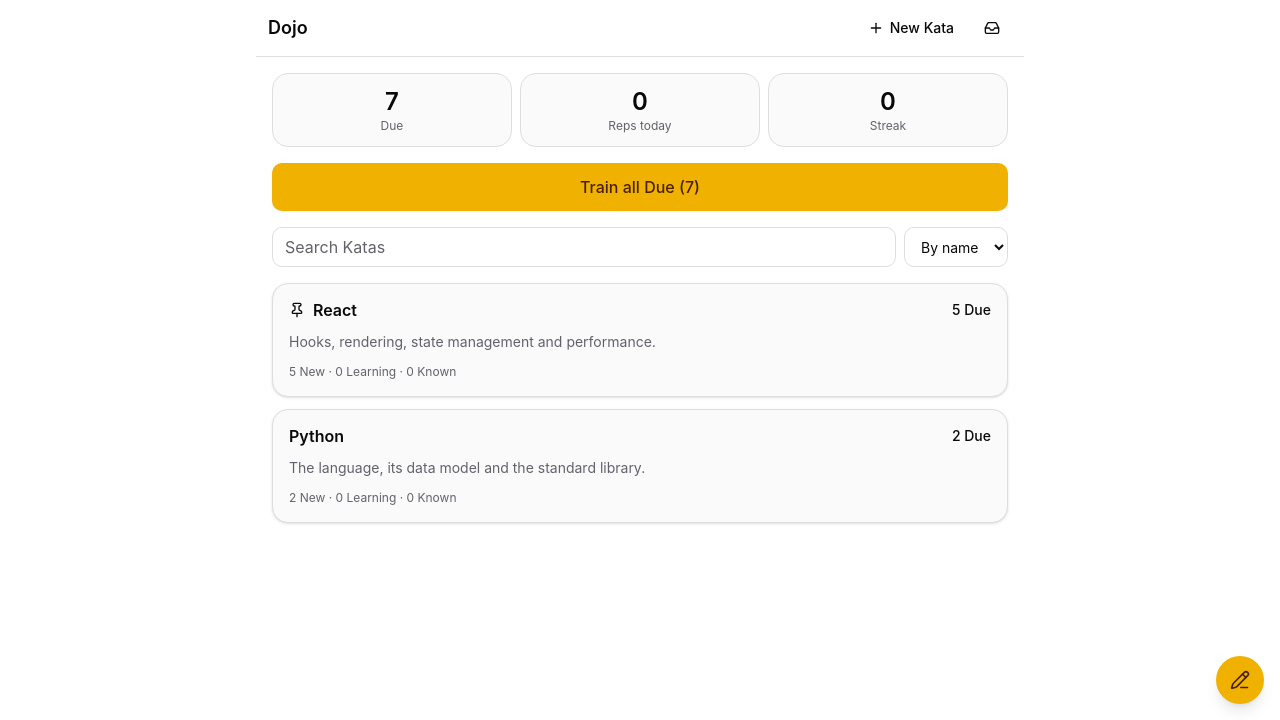
Scenario: Inbox › captures a quick note from Home and posts it with a device id
Check: the list named "Katas" is shown, box [272, 283, 1008, 523]
Click the button named "Quick note": [1240, 680] box [1216, 656, 1264, 704]
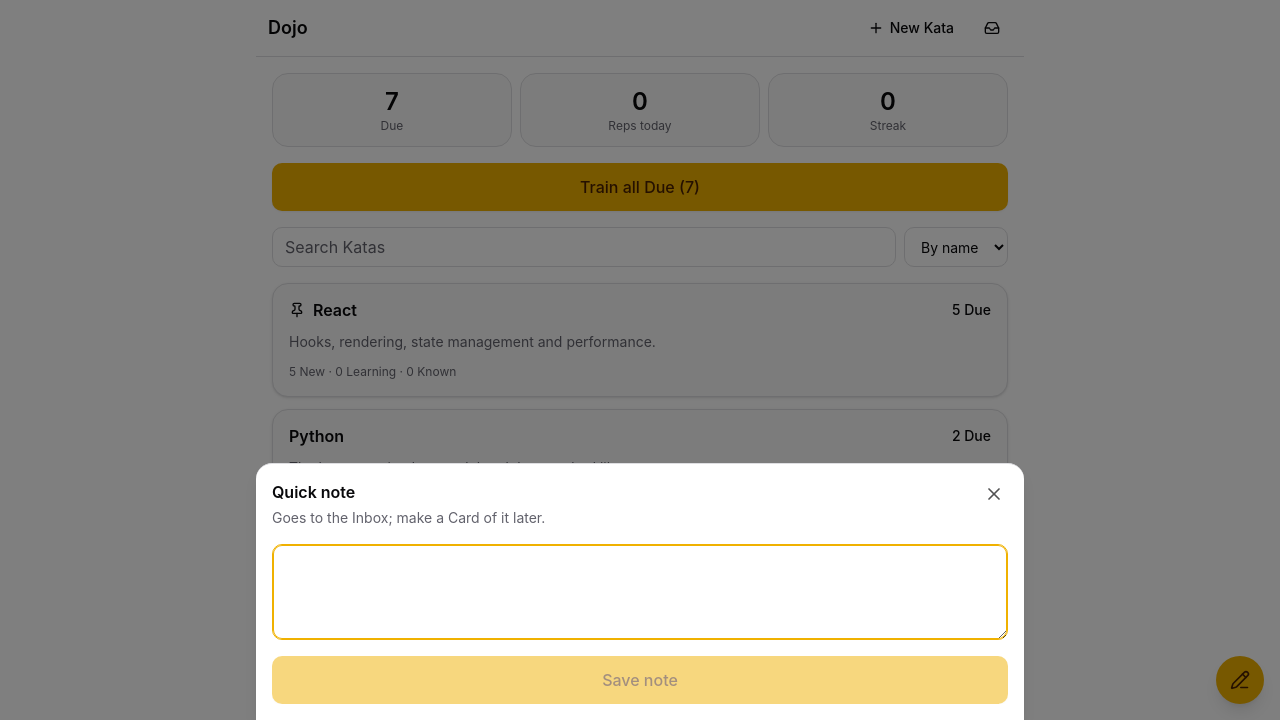
In the text box named "Note": [640, 592] box [272, 544, 1008, 640], type "ask about Suspense"
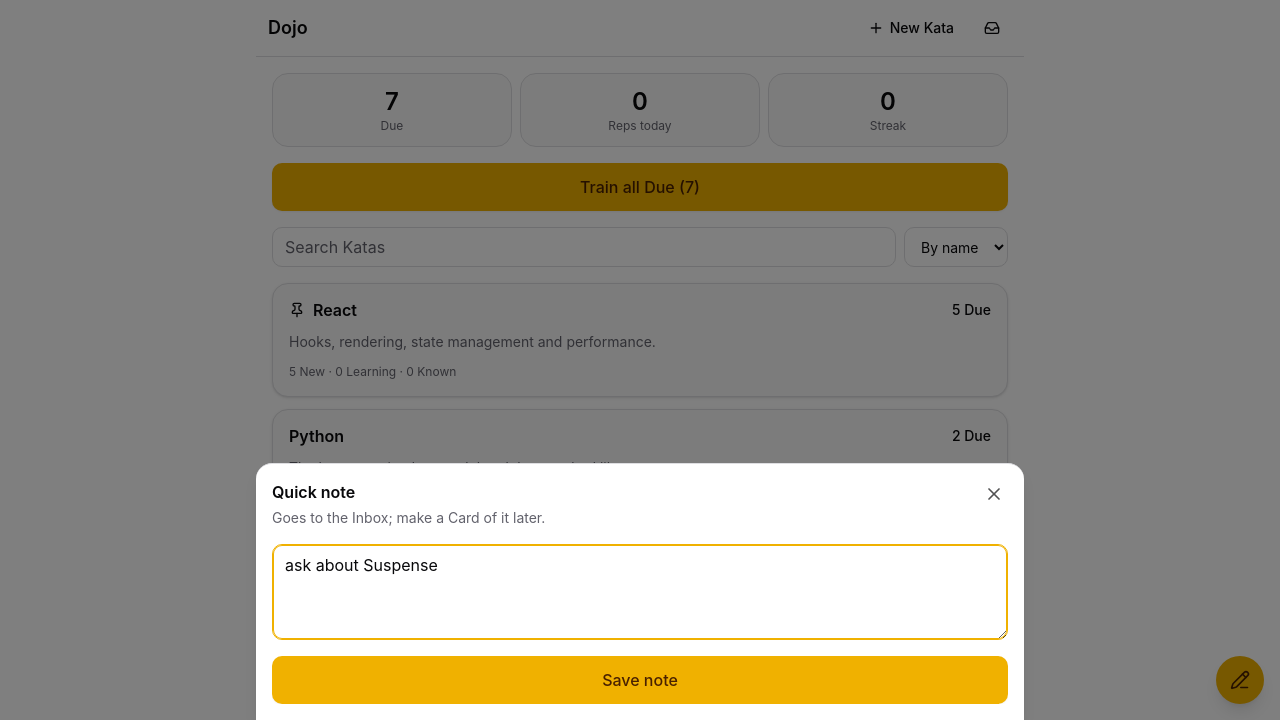
Click the button "Save note": [640, 680] box [272, 656, 1008, 704]
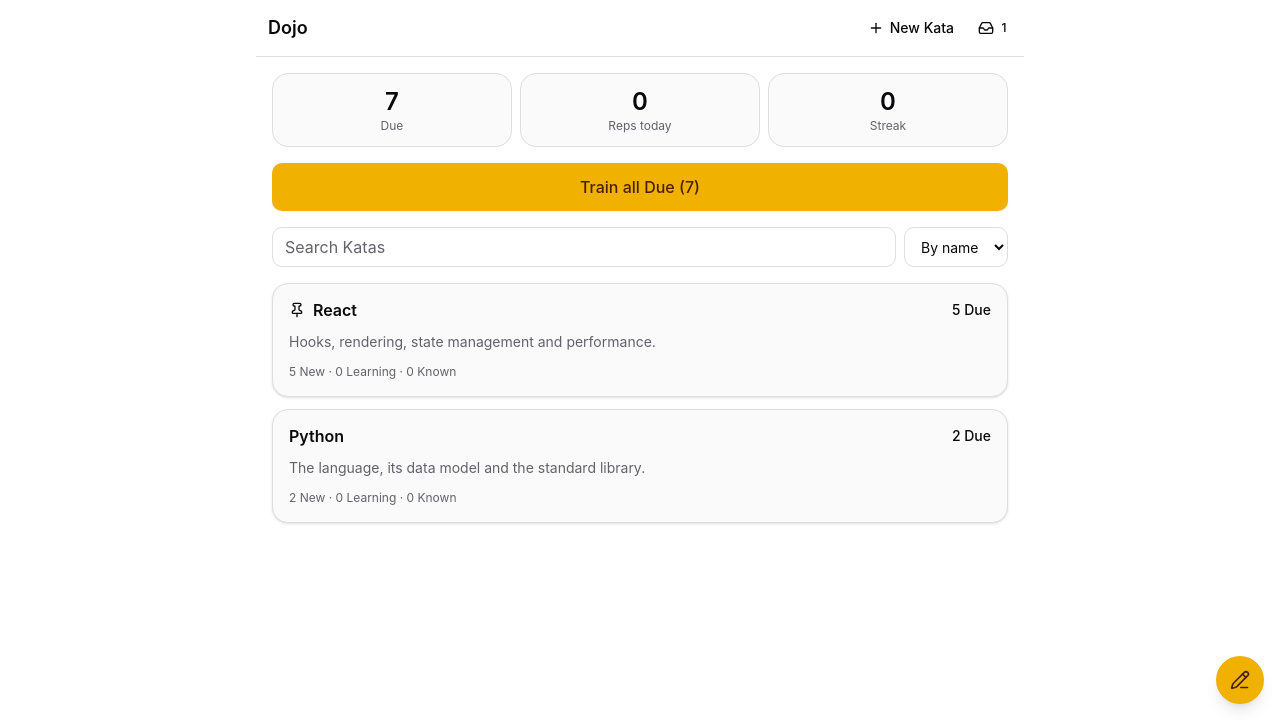
Check: the link named "Inbox, 1 notes" is shown, box [978, 20, 1006, 36]
